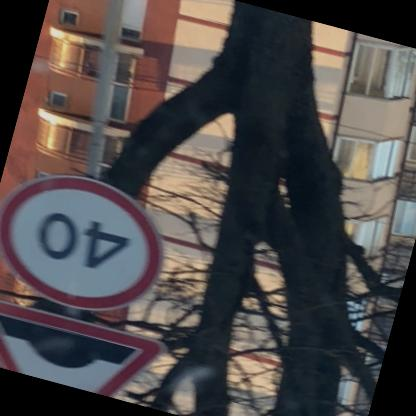speedlimit: (0, 160, 180, 328)
